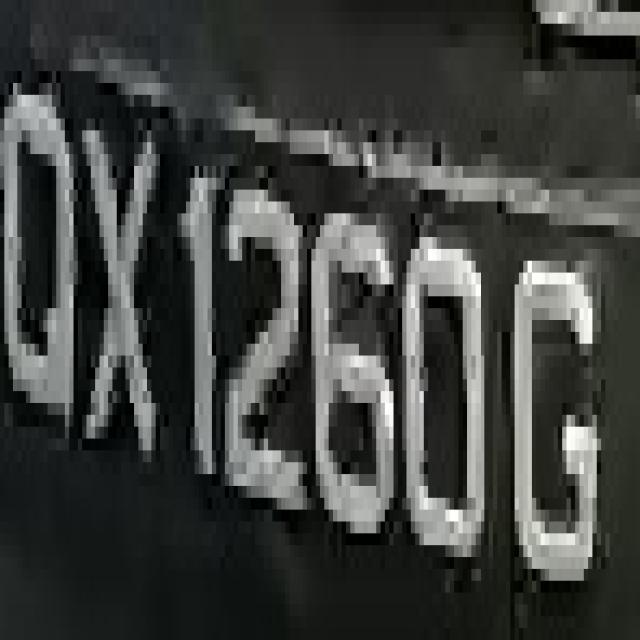0: (393, 154, 498, 569)
1: (173, 71, 225, 498)
2: (230, 119, 312, 557)
6: (312, 154, 394, 569)
G: (510, 225, 610, 628)
Q: (4, 59, 78, 462)
X: (74, 71, 164, 510)
